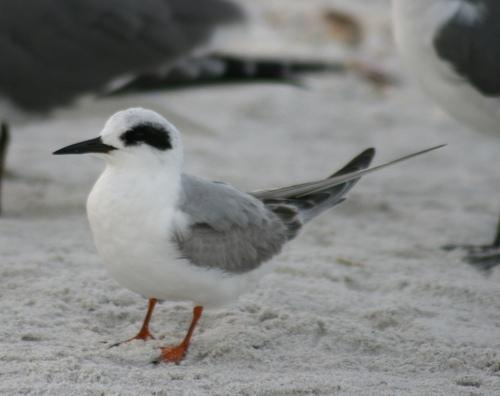bird: (53, 103, 447, 365)
